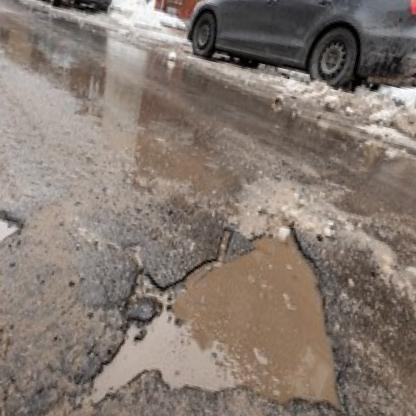pothole: (83, 177, 388, 416), (0, 203, 26, 256)
